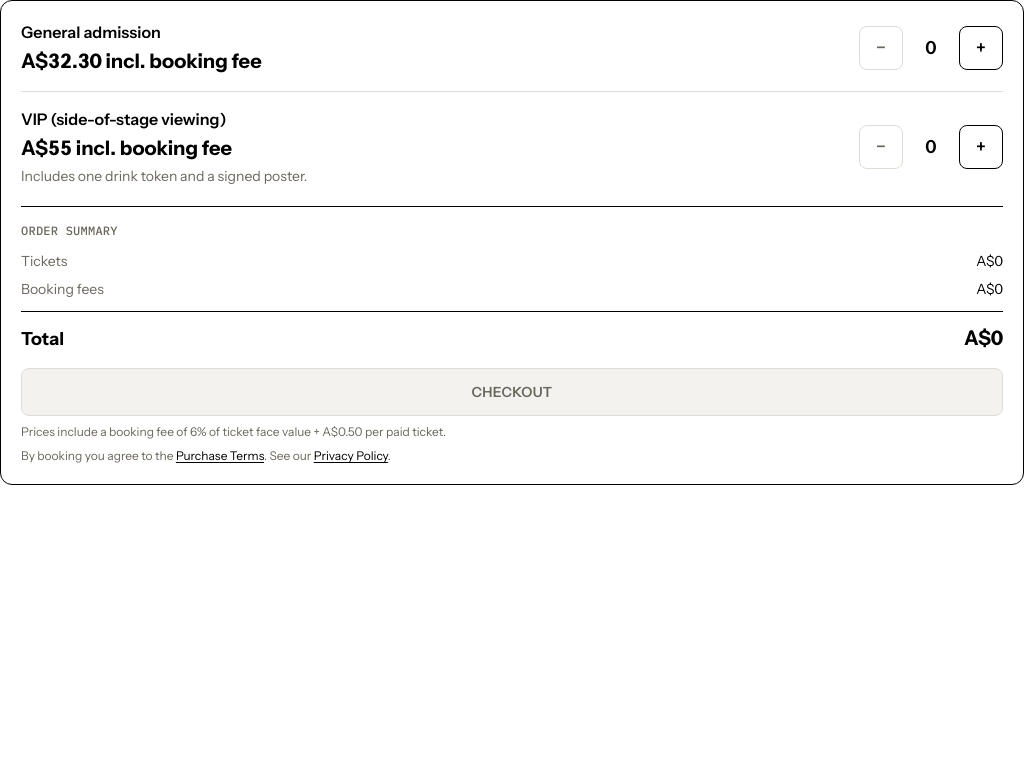
Support Sheltüh in the ticket selector (general admission) › Other chosen from the keyboard (no pointer) doesn't pull focus out of the group
This screenshot has width=1024, height=766.
Click the button named "Increase quantity for General admission": (981, 48) [959,26,1003,70]
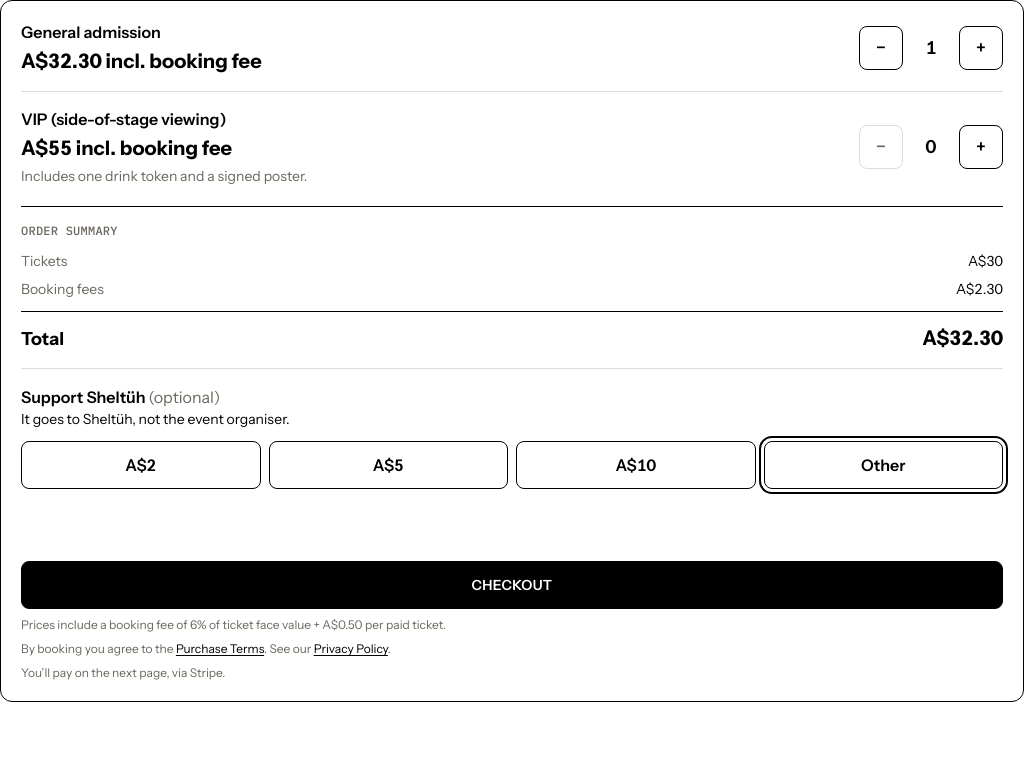
Press ArrowRight in the radio button labelled "Other", box [764,441,1003,489]
Click the radio button labelled "Other": (883, 465) [764,441,1003,489]
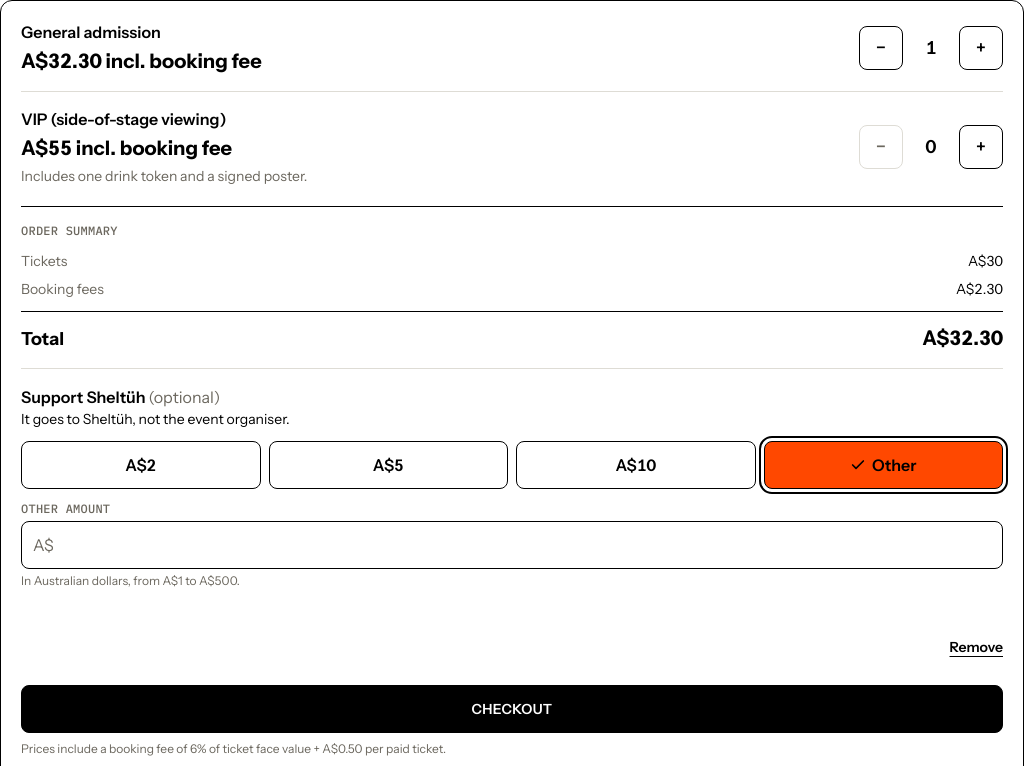
Expected: the radio button labelled "Other" is checked, [764,441,1003,489]
Expected: the field labelled "Other amount" is shown, [21,521,1003,569]
